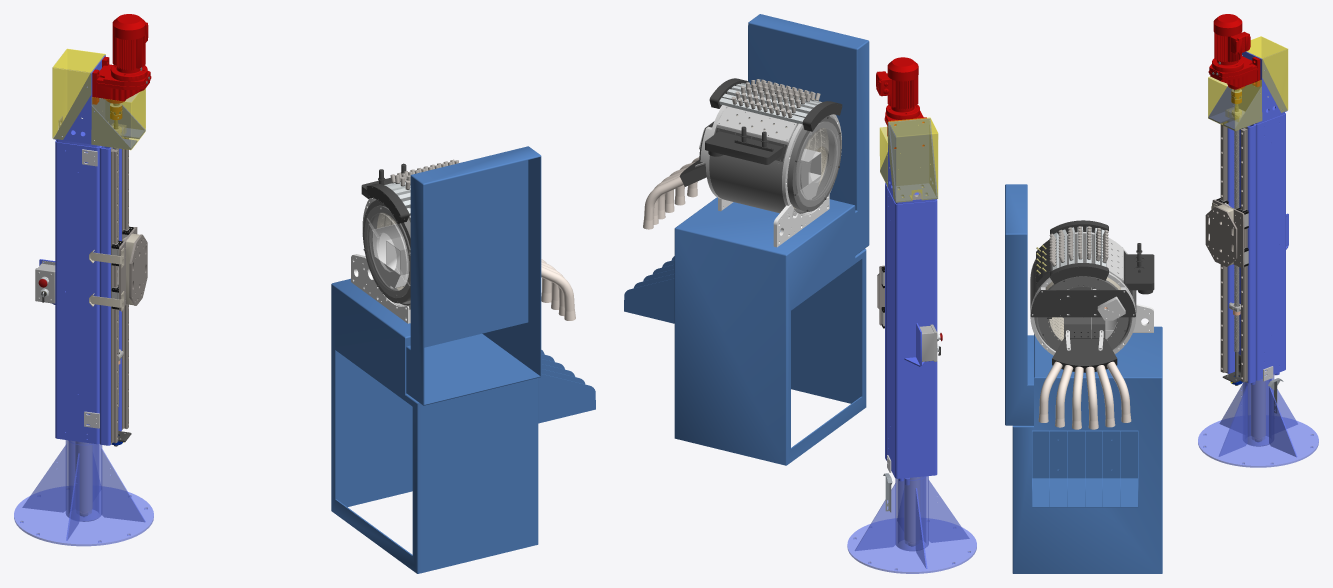
3 renders of one model, left to right at view 1: azimuth 30°, elevation 25°; view 2: azimuth 150°, elevation 25°; view 3: azimuth 270°, elevation 25°, orthographic. The views are drawn at different scales.
Parts seen in each view (by area): view 1: Main Frame-1, DSP Cabinet-1, CSL-003-2, CSL-001-1, MOTR-031-1, CSL-006-1, CSL-010-1, 0260R3-1, SC1432R1-1, CSL-011-1, BRNG-112-2, SC1231CR1-1 (+4 smaller); view 2: Main Frame-1, CSL-003-2, DSP Cabinet-1, CSL-001-1, CSL-010-1, CSL-006-1, SC1001R5-1, SC1004-1, 0260R3-1, MOTR-031-1, SC1432R1-1, SC1127R3-1 (+9 smaller); view 3: Main Frame-1, CSL-003-2, SC1432R1-1, CSL-001-1, DSP Cabinet-1, MOTR-031-1, CSL-006-1, SC1122C-1, CSL-011-1, CSL-010-1, CSL-004-B-2, BRNG-112-2 (+21 smaller).
Part boxes in pixels (bbox=[...]): Main Frame-1: bbox=[331, 278, 538, 573]; DSP Cabinet-1: bbox=[406, 146, 541, 405]; CSL-003-2: bbox=[39, 139, 122, 511]; CSL-001-1: bbox=[14, 440, 153, 546]; MOTR-031-1: bbox=[92, 14, 151, 105]; CSL-006-1: bbox=[53, 55, 145, 149]; CSL-010-1: bbox=[52, 48, 105, 139]; 0260R3-1: bbox=[364, 206, 410, 297]; SC1432R1-1: bbox=[538, 350, 595, 423]; CSL-011-1: bbox=[91, 88, 145, 150]; BRNG-112-2: bbox=[111, 149, 118, 443]; SC1231CR1-1: bbox=[371, 224, 409, 288]; Main Frame-1: bbox=[674, 197, 866, 465]; CSL-003-2: bbox=[885, 183, 937, 541]; DSP Cabinet-1: bbox=[748, 14, 869, 255]; CSL-001-1: bbox=[847, 476, 976, 573]; CSL-010-1: bbox=[887, 117, 938, 202]; CSL-006-1: bbox=[880, 118, 937, 202]; SC1001R5-1: bbox=[709, 115, 829, 216]; SC1004-1: bbox=[787, 116, 841, 211]; 0260R3-1: bbox=[795, 122, 839, 206]; MOTR-031-1: bbox=[876, 57, 926, 148]; SC1432R1-1: bbox=[624, 256, 674, 323]; SC1127R3-1: bbox=[705, 128, 786, 164]; Main Frame-1: bbox=[1012, 326, 1162, 573]; CSL-003-2: bbox=[1225, 112, 1288, 437]; SC1432R1-1: bbox=[1032, 430, 1138, 507]; CSL-001-1: bbox=[1198, 374, 1318, 467]; DSP Cabinet-1: bbox=[1005, 184, 1033, 425]; MOTR-031-1: bbox=[1208, 14, 1260, 91]; CSL-006-1: bbox=[1208, 51, 1287, 130]; SC1122C-1: bbox=[1030, 290, 1135, 318]; CSL-011-1: bbox=[1208, 76, 1262, 130]; CSL-010-1: bbox=[1246, 36, 1288, 112]; CSL-004-B-2: bbox=[1205, 206, 1237, 266]; BRNG-112-2: bbox=[1220, 121, 1227, 372].
Size of the model in its own units: 2.22 by 2.42 by 1.58.
